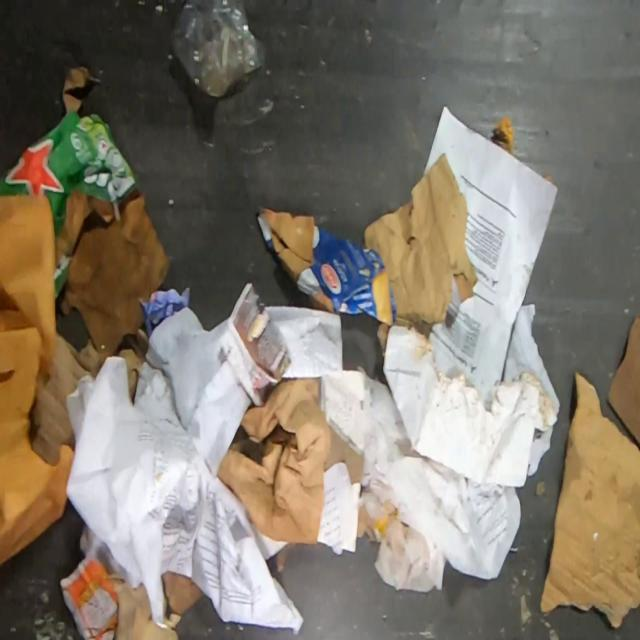cardboard: (363, 152, 559, 488), (0, 66, 174, 354), (539, 368, 640, 631), (28, 305, 149, 466), (257, 208, 398, 326), (606, 314, 640, 448)
rigid_plastic: (170, 0, 267, 98)
